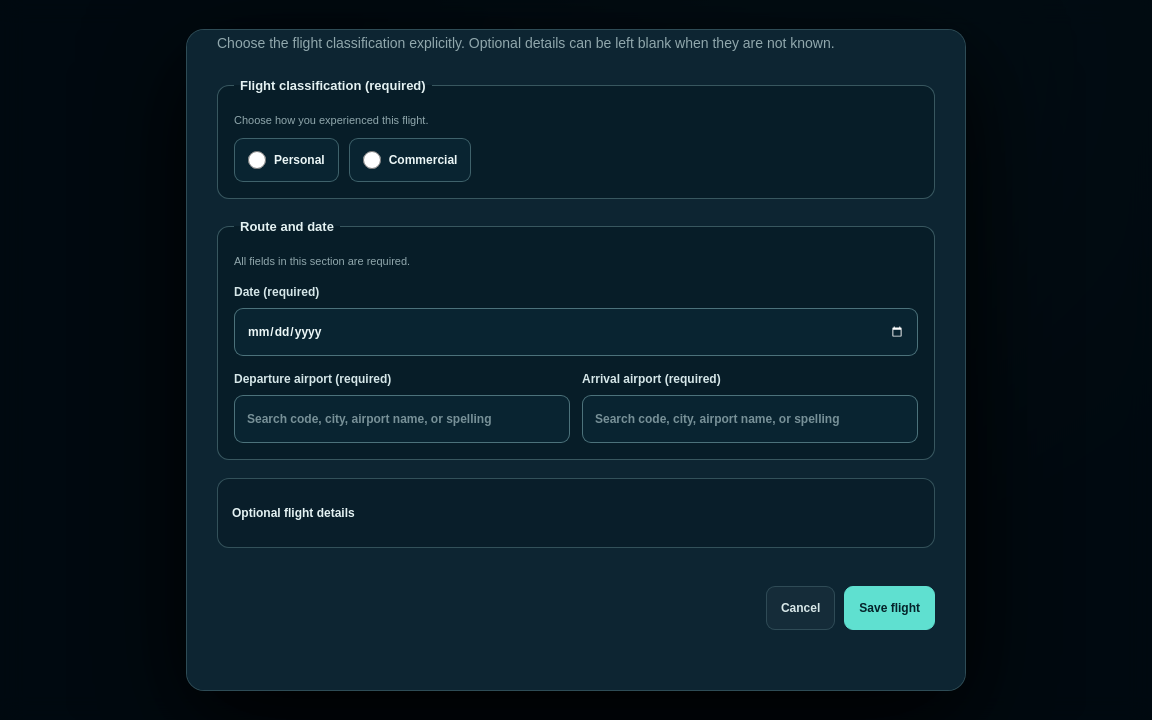
ManualFlightDialog › keeps persistent labels and exposes accessible required-field errors
The width and height of the screenshot is (1152, 720).
(page scrolled)
Expected: the element "Flight classification (required)" is shown, [217,76,935,199]
Expected: the date field labelled "Date (required)" is shown, [234,308,918,356]
Click the button "Save flight" at (890, 608), box [844,586,935,630]
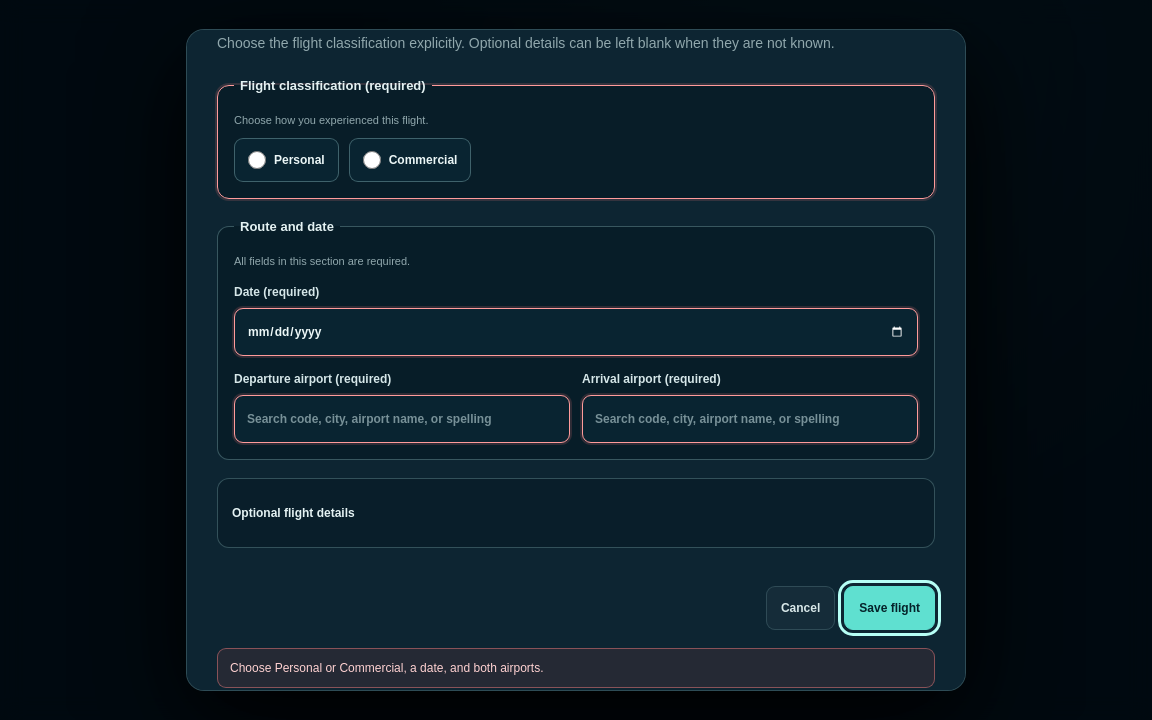
Expected: the message reads "Choose Personal or Commercial, a date, and both airports.", [230,661,544,675]
